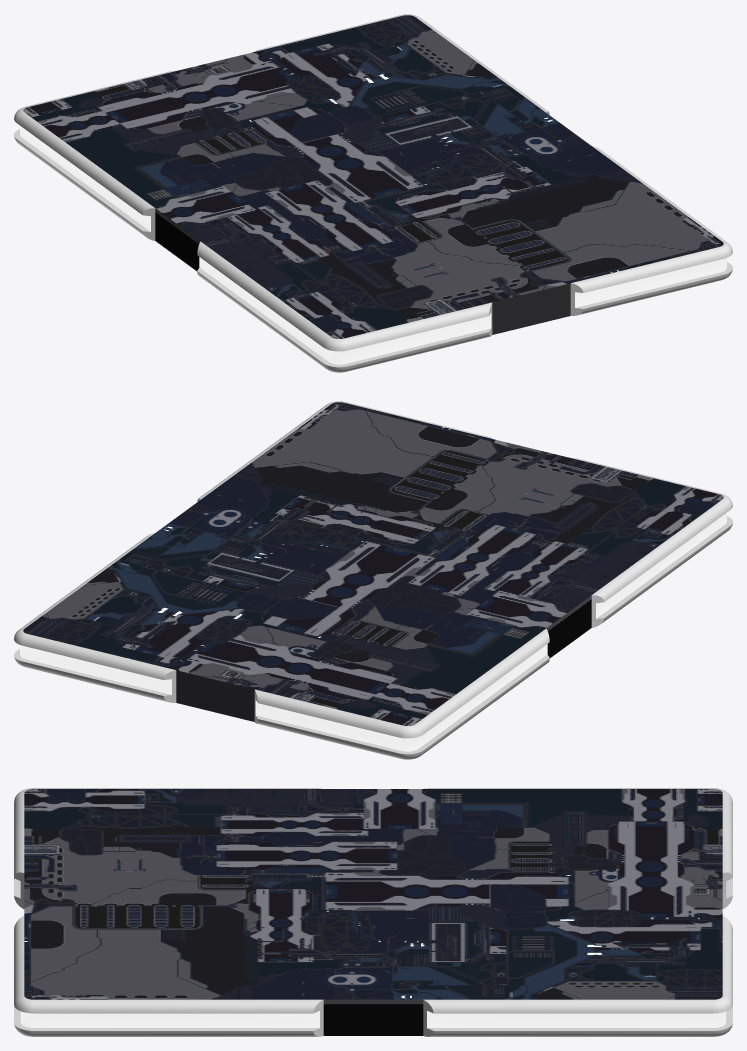
File: Platform_rectangle.glb
3 renders of one model, top to bottom at view 1: azimuth 30°, elevation 25°; view 2: azimuth 150°, elevation 25°; view 3: azimuth 270°, elevation 25°, orthographic. The views are drawn at different scales.
Visible parts, largest first — view 1: Platform_Rectangle_Greeble; view 2: Platform_Rectangle_Greeble; view 3: Platform_Rectangle_Greeble.
Boxes of the visible parts, bbox=[...] form: Platform_Rectangle_Greeble: bbox=[14, 14, 732, 372]; Platform_Rectangle_Greeble: bbox=[14, 401, 732, 759]; Platform_Rectangle_Greeble: bbox=[14, 788, 732, 1036].
Size of what is drawn, in the model's own units: 26.03 by 2 by 36.03.
Materials: 3 (1 with a texture image).
